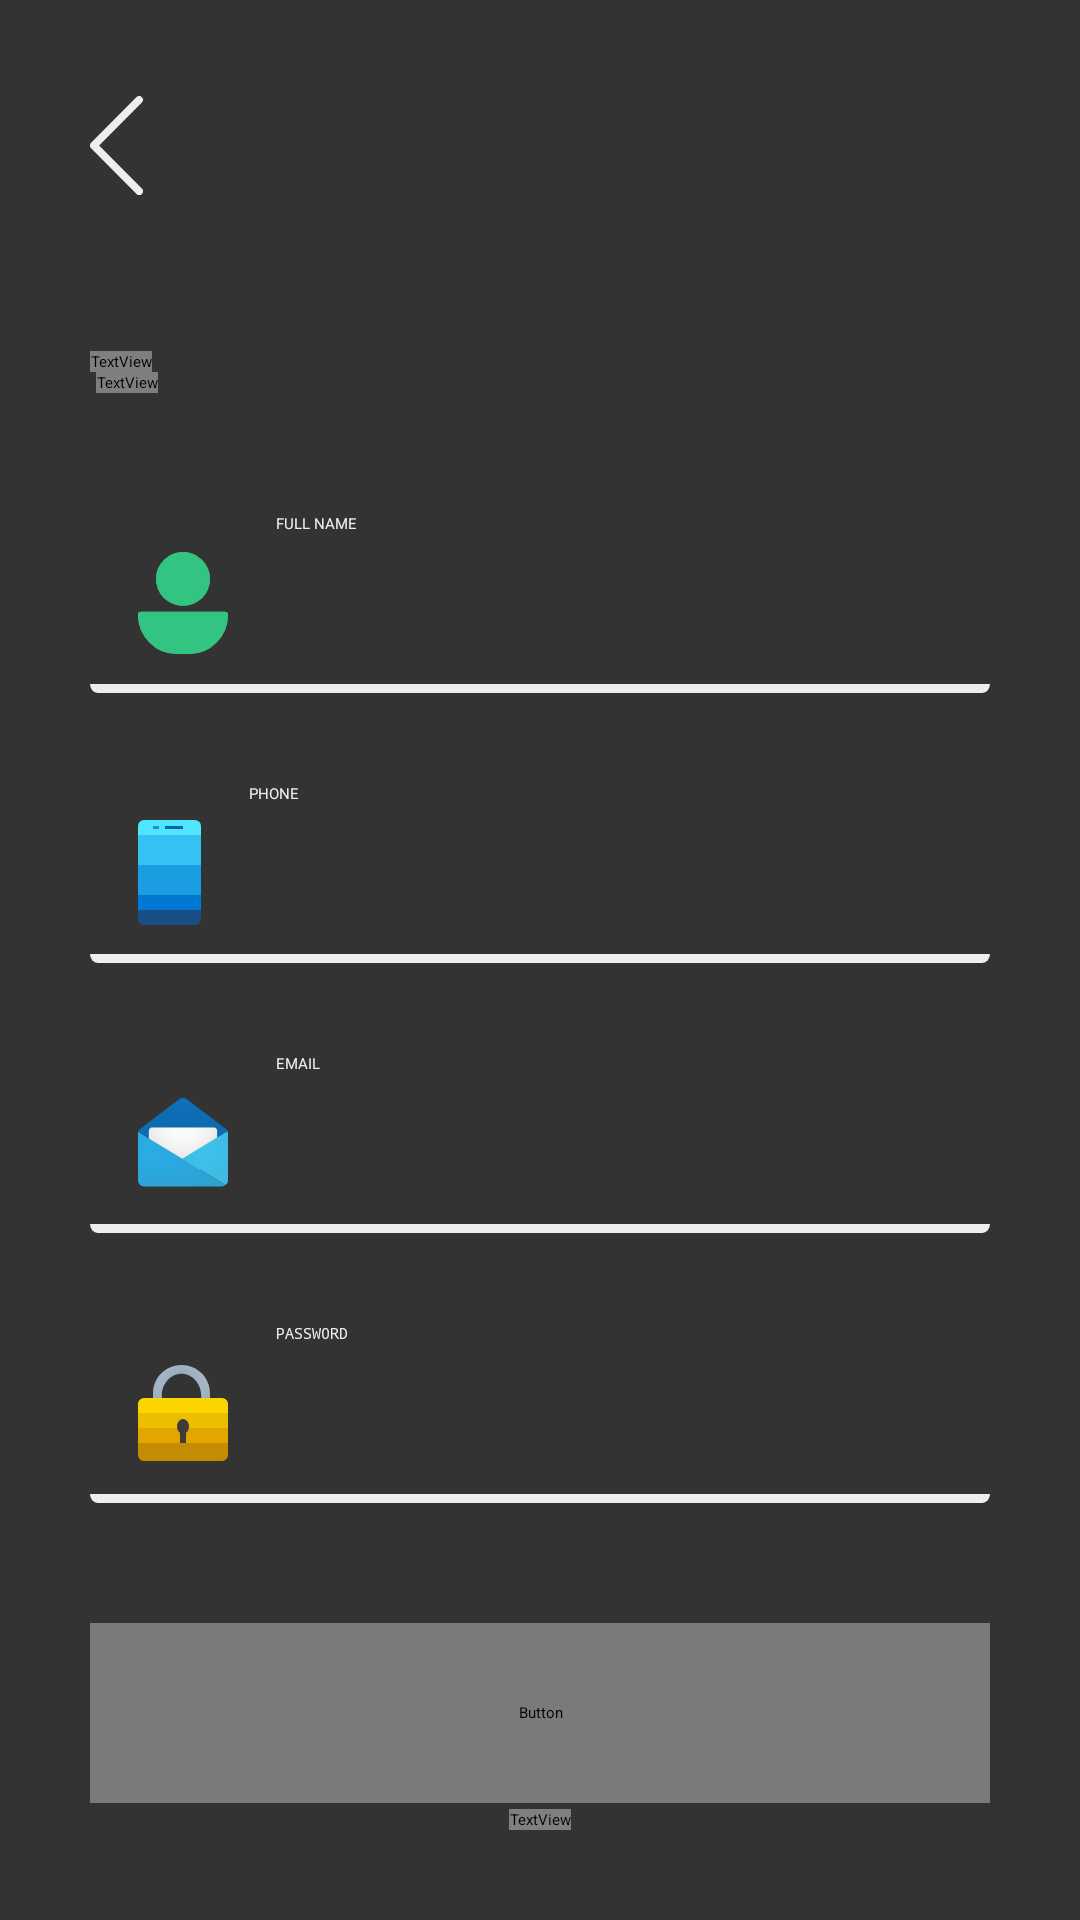

Icon click points for this 1080px×1920px phone screenshot, format (x,y):
left arrow: (116,145)
